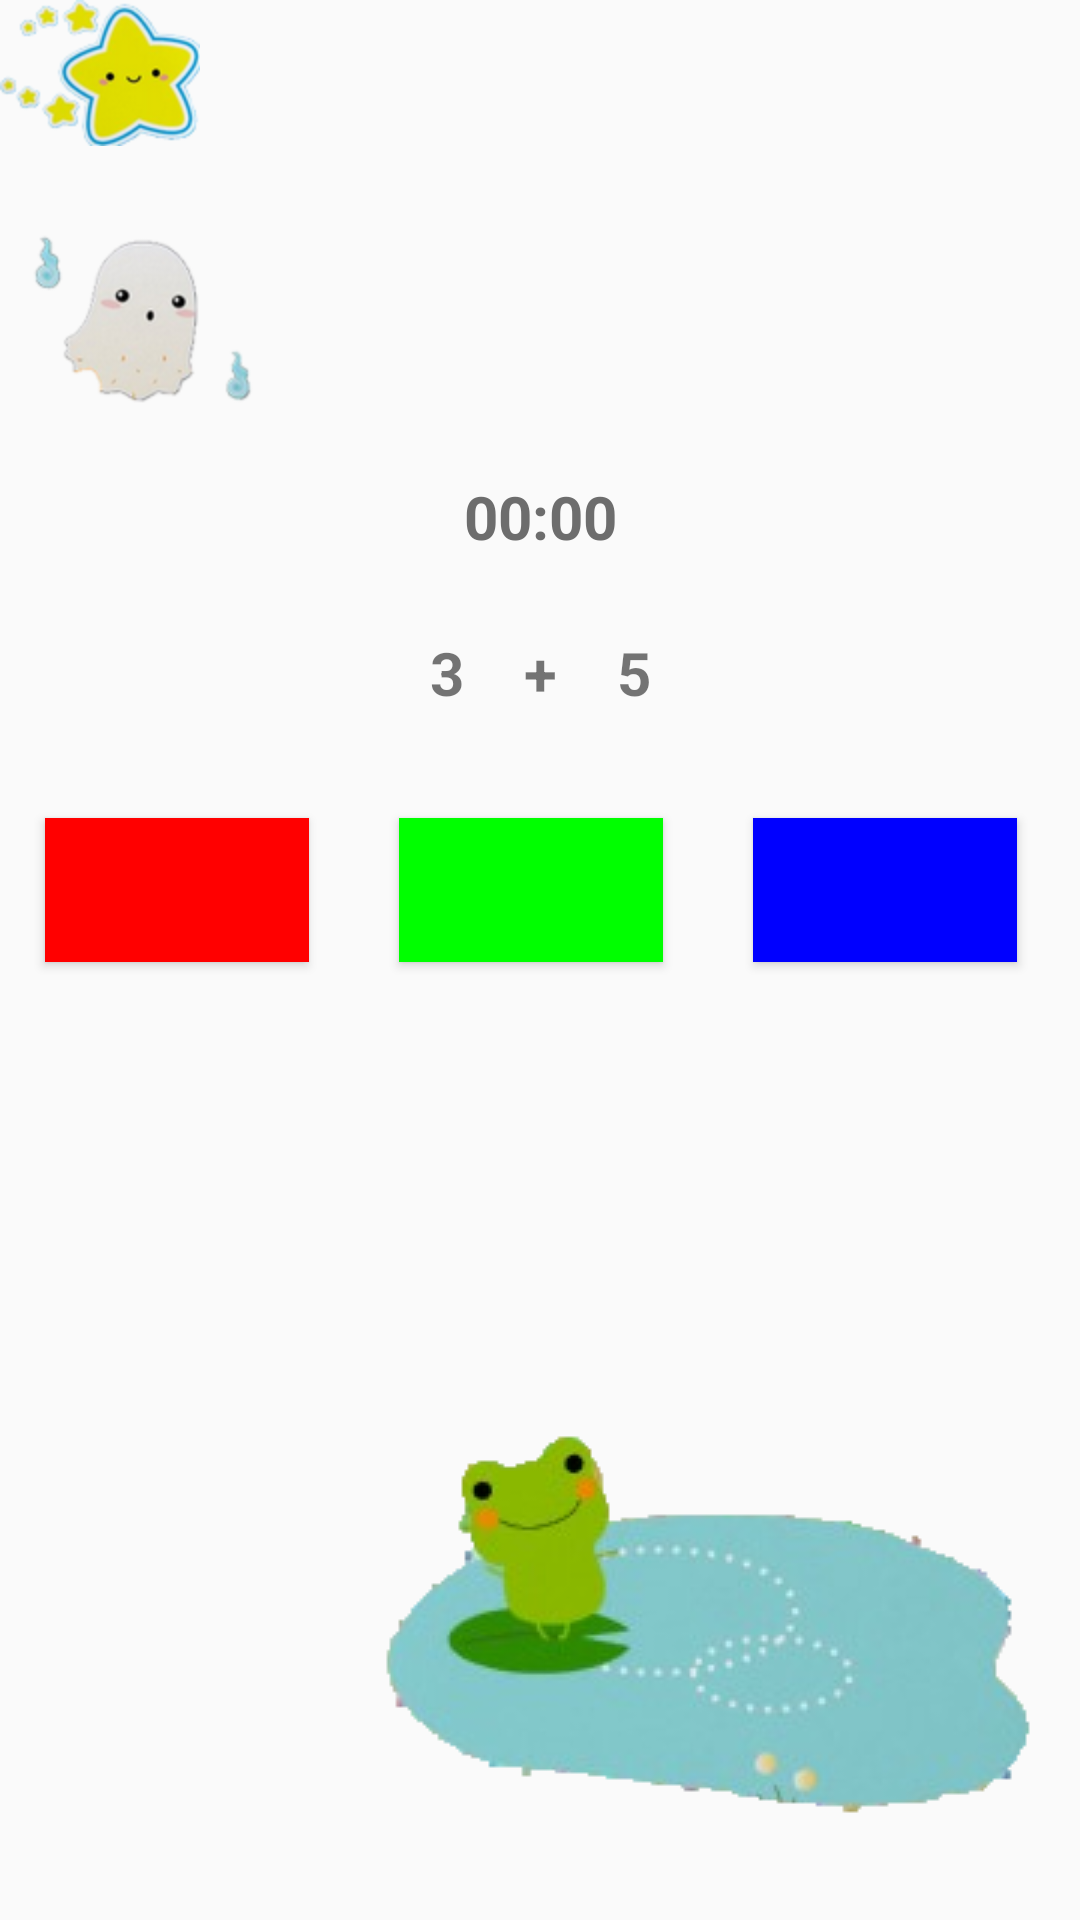

Icon click points for this 1080px×1920px phone screenshot, format (x,y):
ghost: (143,319)
star: (100,73)
